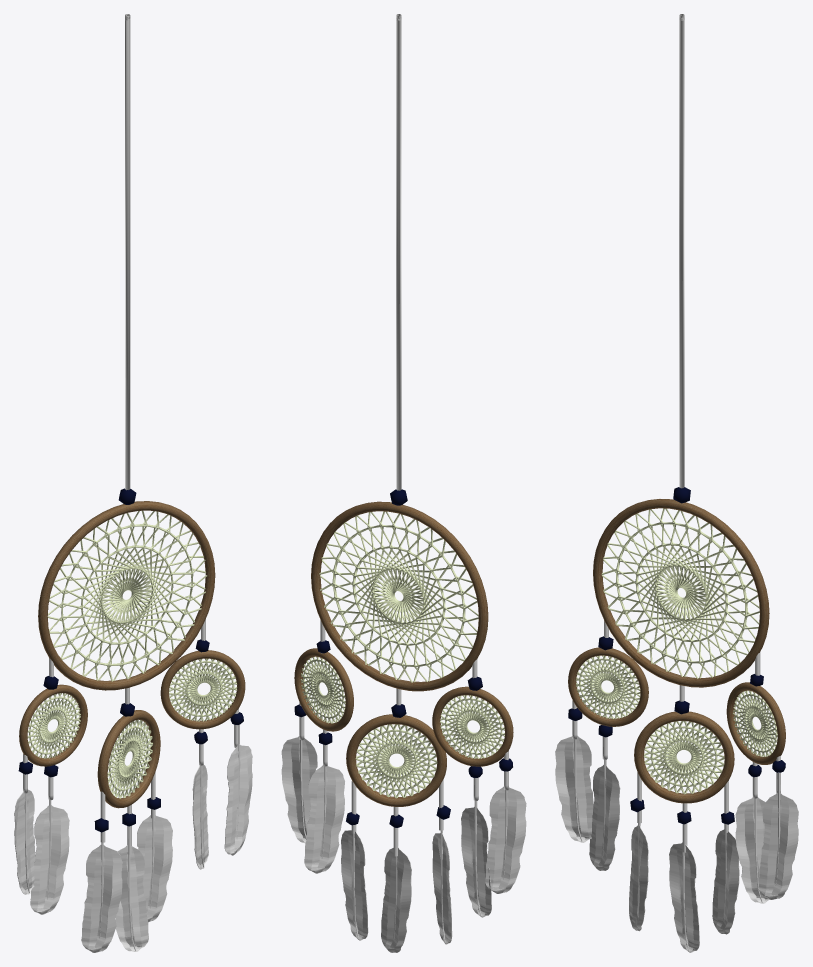
Rendered from drømmefanger 1.fbx.
The picture shows the model from 3 angles, left to right: view 1: azimuth 30°, elevation 25°; view 2: azimuth 150°, elevation 25°; view 3: azimuth 330°, elevation 25°; orthographic projection.
Visible parts, largest first — view 1: Cylinder, Torus.001, Plane.002, Plane.003, Cylinder.001, Icosphere.021, Cylinder.004, Plane.001, Plane.006, Cylinder.003, Cylinder.002, Torus.003 (+4 smaller); view 2: Cylinder, Torus.001, Cylinder.003, Plane.004, Plane.005, Icosphere.021, Cylinder.002, Torus.003, Plane.006, Plane.001, Plane.003, Cylinder.004 (+4 smaller); view 3: Cylinder, Torus.001, Cylinder.003, Plane.006, Plane.004, Icosphere.021, Torus.003, Cylinder.002, Plane.003, Plane.001, Plane.005, Cylinder.004 (+4 smaller).
Boxes of the visible parts, x1=… form: Cylinder: x1=47, y1=510, x2=207, y2=681; Torus.001: x1=38, y1=501, x2=215, y2=690; Plane.002: x1=81, y1=842, x2=122, y2=952; Plane.003: x1=30, y1=800, x2=69, y2=914; Cylinder.001: x1=169, y1=658, x2=237, y2=721; Icosphere.021: x1=125, y1=14, x2=130, y2=490; Cylinder.004: x1=137, y1=815, x2=172, y2=922; Plane.001: x1=116, y1=826, x2=148, y2=951; Plane.006: x1=224, y1=724, x2=252, y2=855; Cylinder.003: x1=107, y1=719, x2=152, y2=798; Cylinder.002: x1=27, y1=693, x2=80, y2=758; Torus.003: x1=97, y1=710, x2=160, y2=808; Cylinder: x1=319, y1=511, x2=478, y2=682; Torus.001: x1=311, y1=501, x2=488, y2=691; Cylinder.003: x1=355, y1=724, x2=437, y2=798; Plane.004: x1=485, y1=786, x2=526, y2=893; Plane.005: x1=304, y1=765, x2=344, y2=873; Icosphere.021: x1=396, y1=14, x2=401, y2=490; Cylinder.002: x1=440, y1=695, x2=504, y2=758; Torus.003: x1=346, y1=714, x2=446, y2=806; Plane.006: x1=281, y1=736, x2=317, y2=843; Plane.001: x1=381, y1=828, x2=411, y2=952; Plane.003: x1=461, y1=787, x2=491, y2=917; Cylinder.004: x1=341, y1=830, x2=368, y2=940; Cylinder: x1=601, y1=508, x2=759, y2=678; Torus.001: x1=593, y1=499, x2=769, y2=687; Cylinder.003: x1=644, y1=721, x2=724, y2=794; Plane.006: x1=758, y1=772, x2=798, y2=899; Plane.004: x1=555, y1=735, x2=593, y2=842; Icosphere.021: x1=679, y1=14, x2=684, y2=488; Torus.003: x1=634, y1=711, x2=734, y2=803; Cylinder.002: x1=576, y1=655, x2=640, y2=719; Plane.003: x1=589, y1=759, x2=620, y2=870; Plane.001: x1=669, y1=842, x2=699, y2=952; Plane.005: x1=735, y1=797, x2=769, y2=903; Cylinder.004: x1=712, y1=829, x2=739, y2=934.
Bounding box in the file's own units: 215 × 42.83 × 799.
4 materials, 1 textured.
